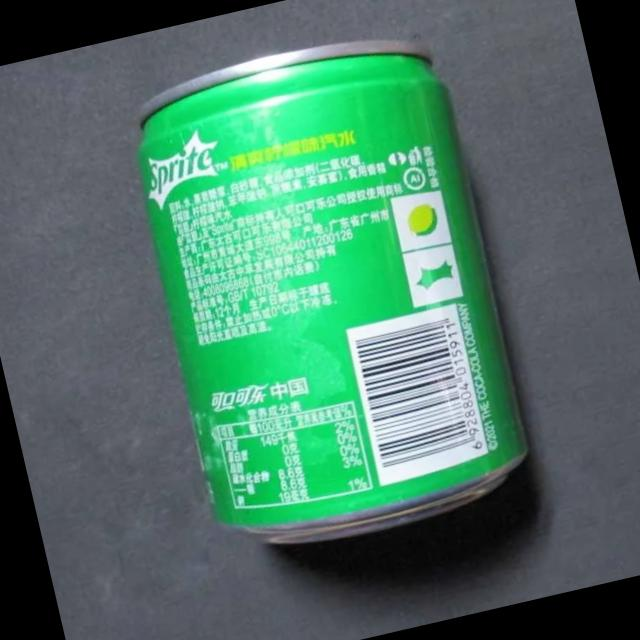sprite: (112, 22, 552, 590)
